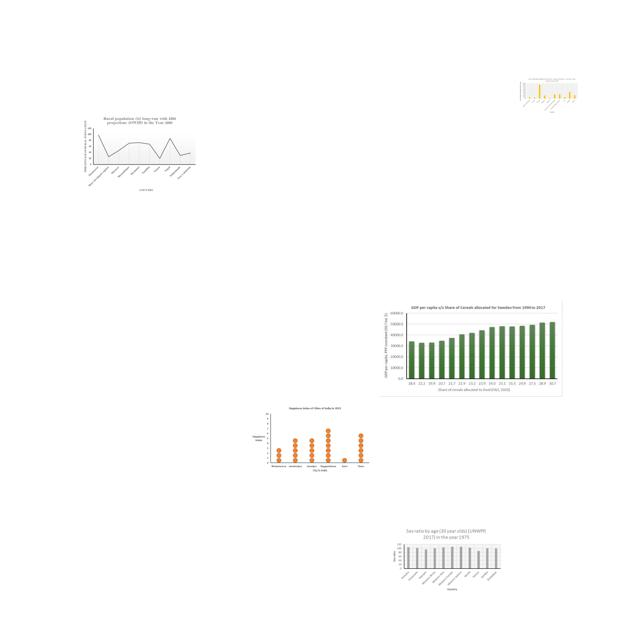Graph: (380, 300, 563, 397), (82, 116, 198, 193), (251, 405, 370, 473), (390, 527, 502, 592), (519, 77, 578, 114)
